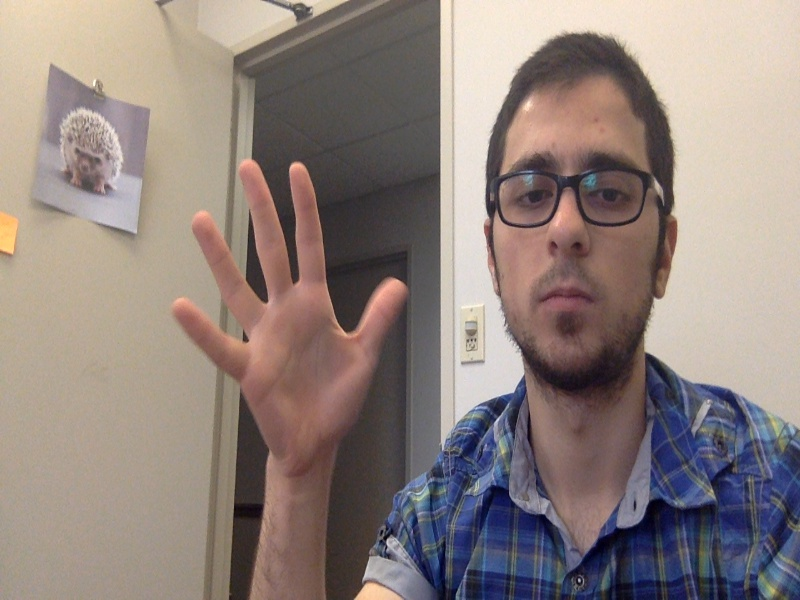5-hand: (169, 157, 406, 482)
